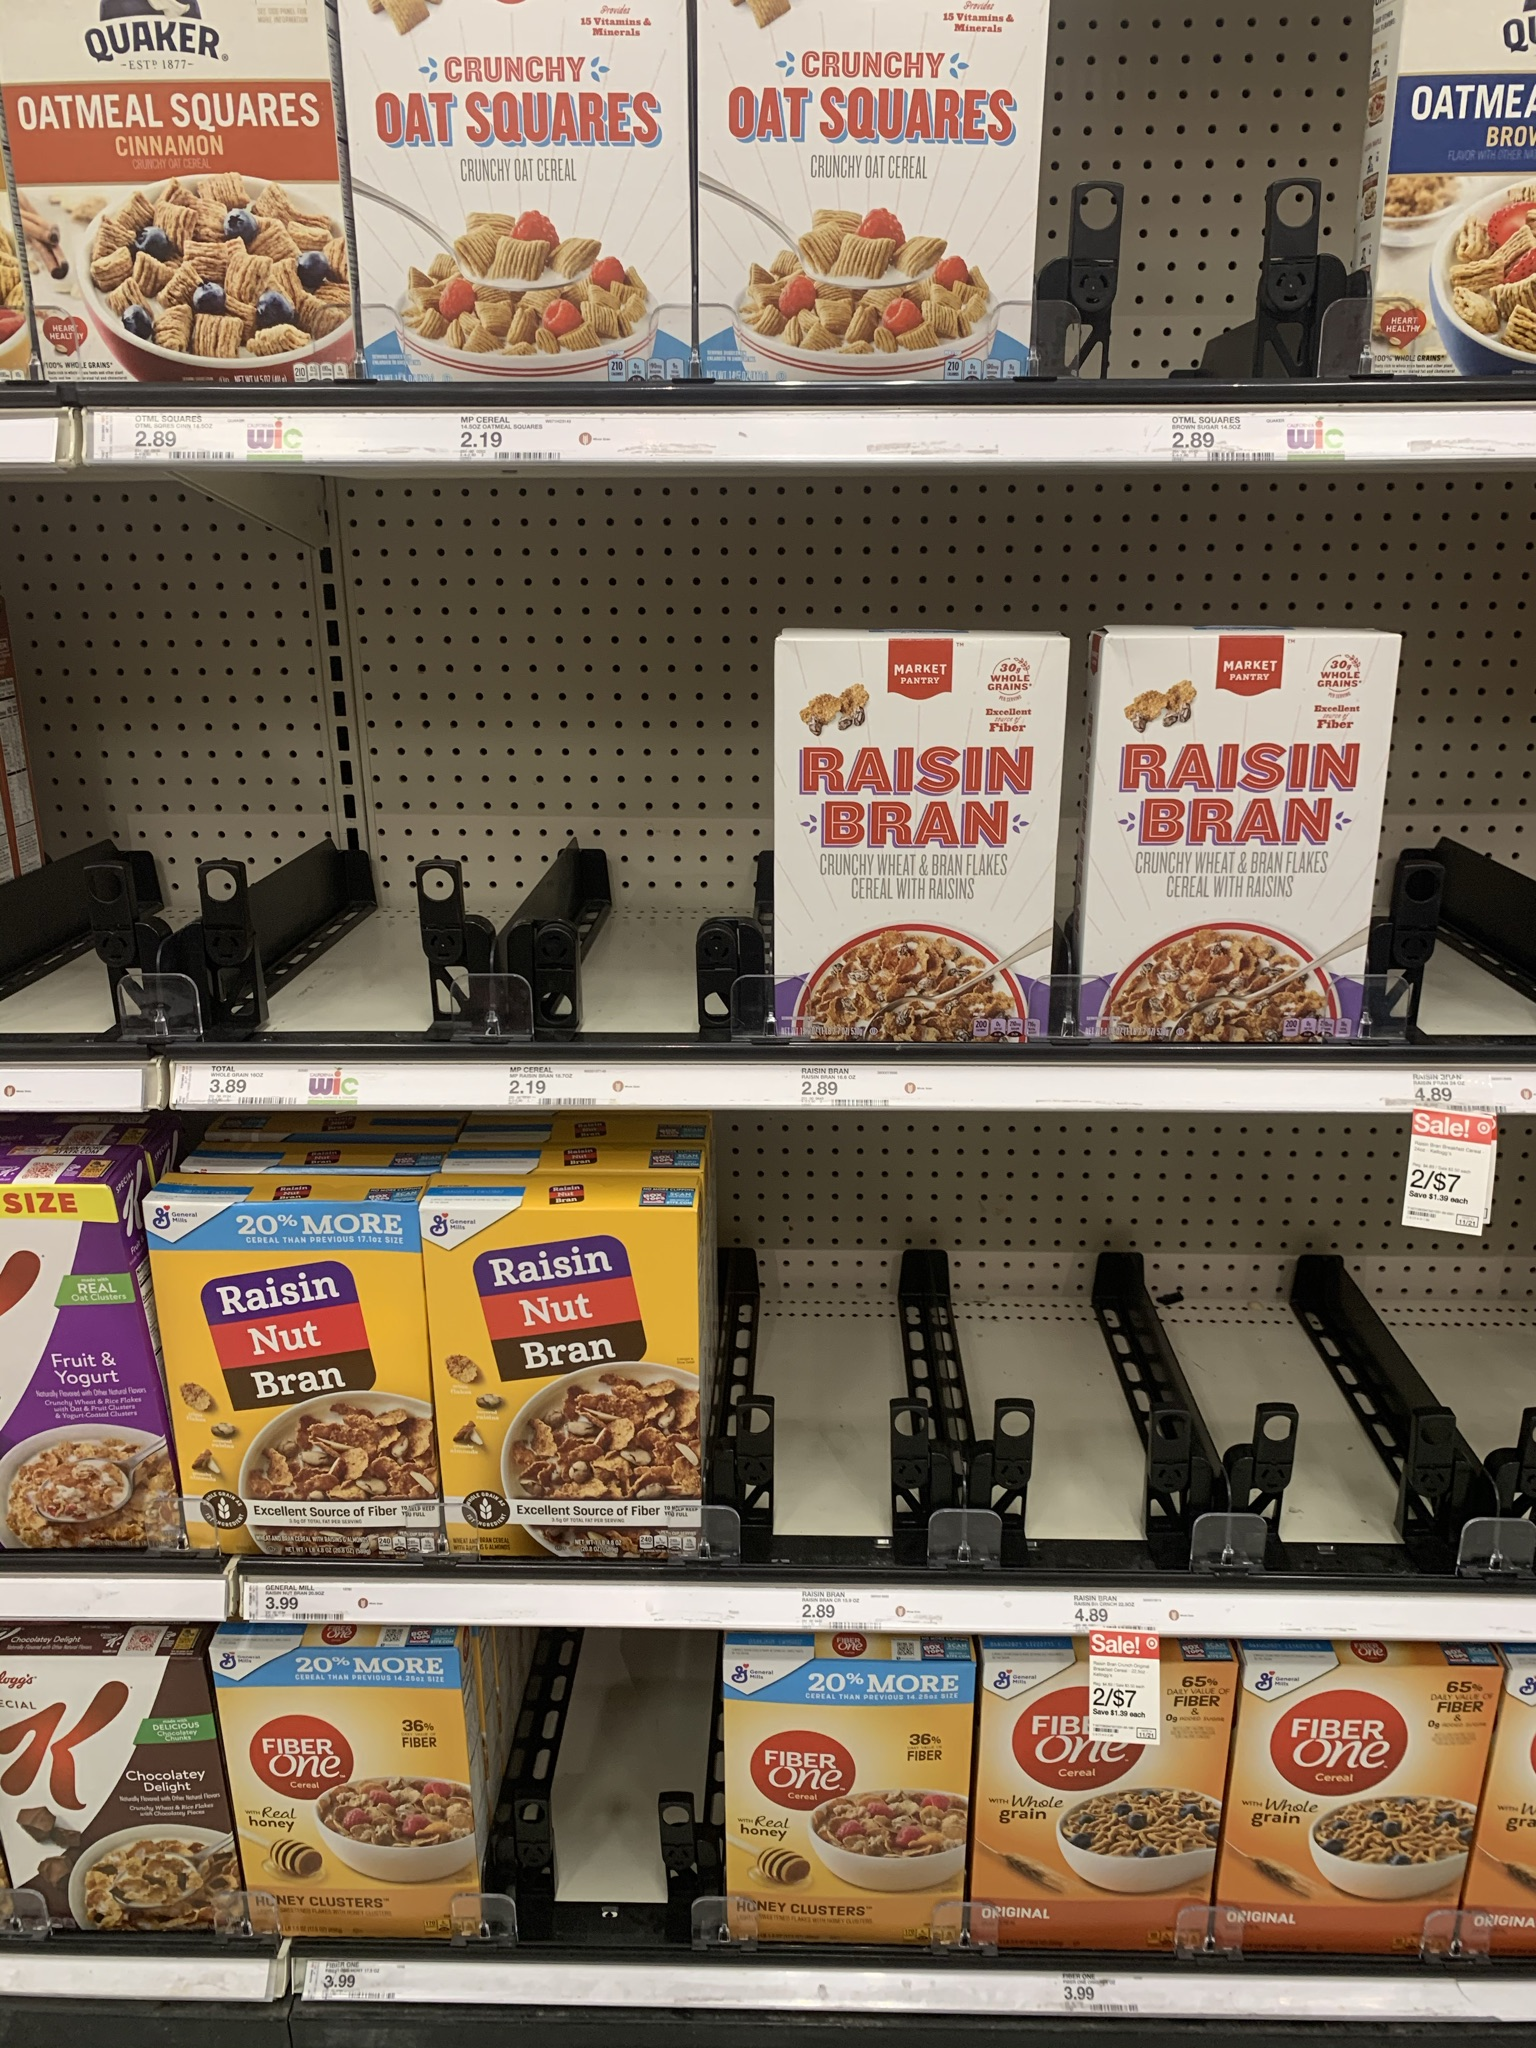Cereal crunchy: (702, 6, 1044, 364), (378, 19, 692, 360)
Cereal fiber one: (1239, 1674, 1497, 1966), (234, 1656, 484, 1950), (1008, 1669, 1229, 1964), (721, 1664, 970, 1925)
Cereal kellogs: (2, 1674, 253, 1951)
Cereal quaker: (15, 11, 337, 360)
Cereal raisin: (778, 647, 1070, 1035), (1104, 647, 1376, 1029), (142, 1214, 439, 1534), (452, 1221, 708, 1530)
